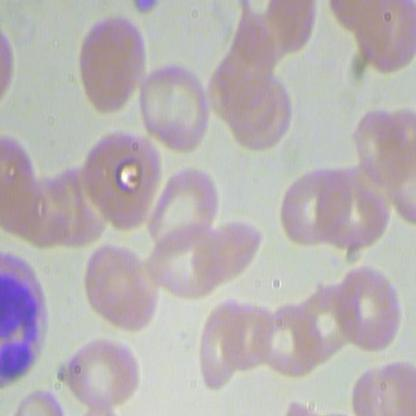RBC: (78, 124, 161, 234), (69, 16, 153, 118), (79, 238, 164, 336), (138, 55, 218, 154), (332, 255, 405, 355), (279, 162, 353, 244), (188, 209, 262, 290), (300, 277, 368, 358), (64, 339, 141, 408), (260, 294, 319, 375), (192, 298, 244, 384), (223, 296, 272, 375)
WBC: (0, 252, 52, 390)
